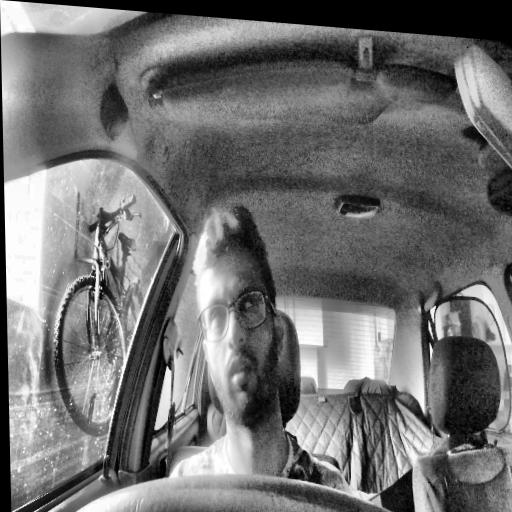drowsy: (191, 202, 288, 428)
